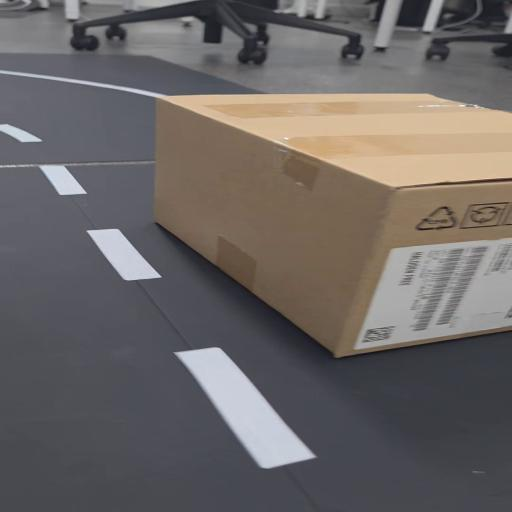Box: (151, 87, 512, 353)
